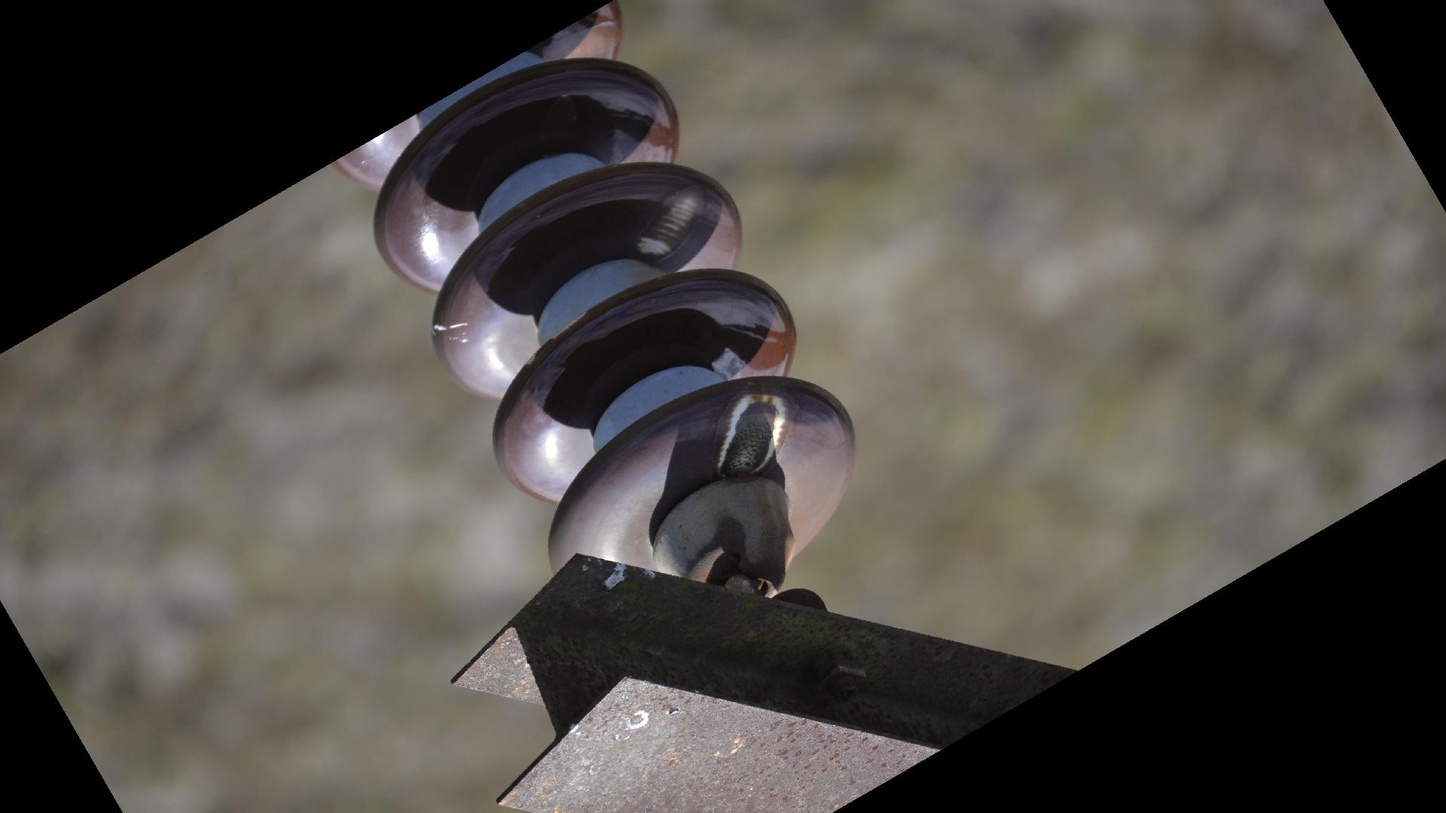insulator: (330, 1, 862, 586)
insulator_flashover: (633, 183, 710, 261), (714, 398, 787, 480)
